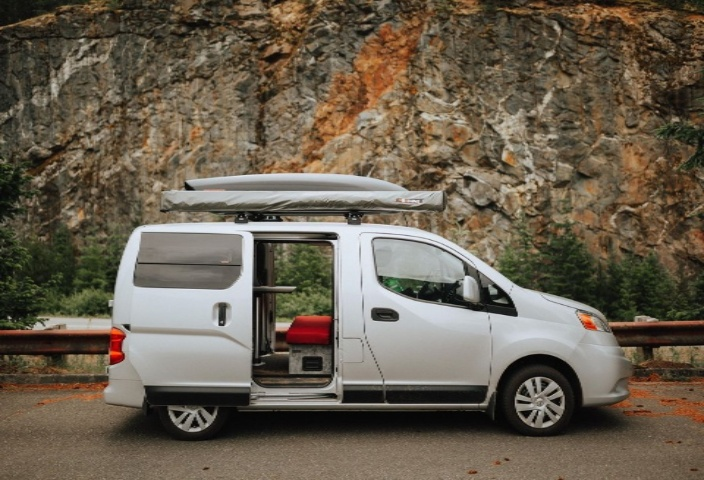van: (97, 154, 641, 442)
